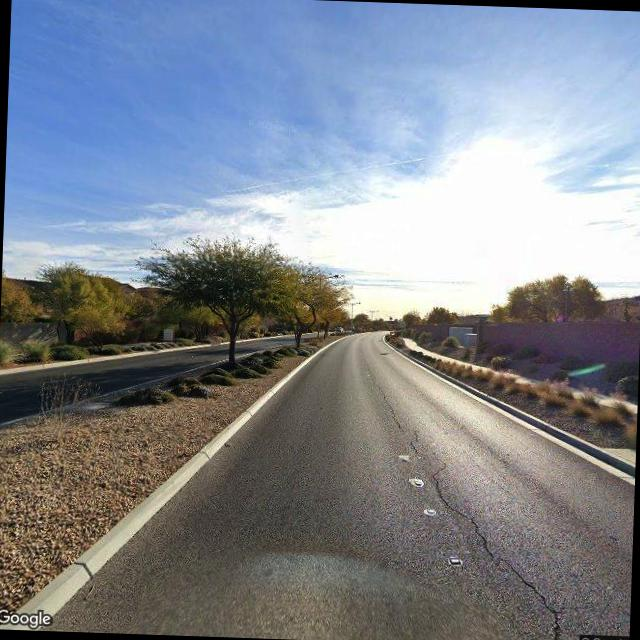pothole: (416, 461, 574, 640), (371, 378, 404, 433)
